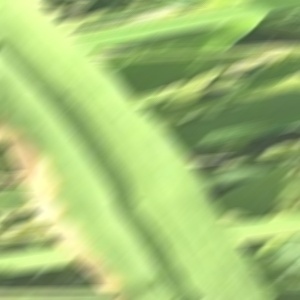Leaf_Blast: (6, 15, 186, 299)
